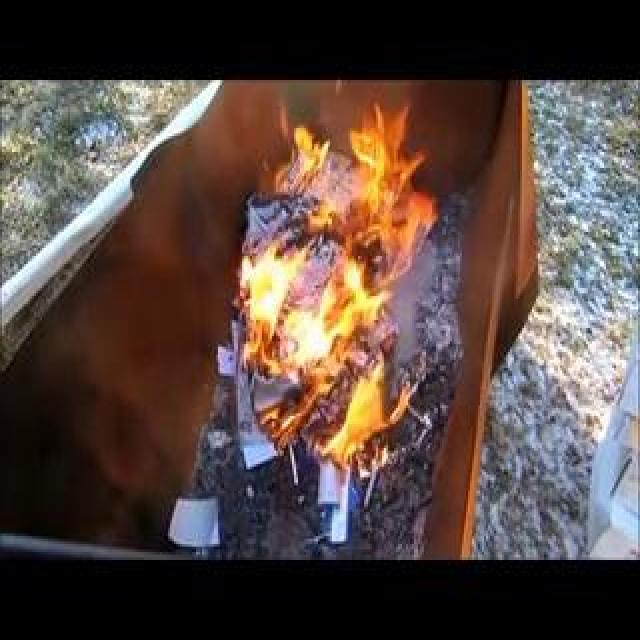Fire: (230, 274, 339, 392)
